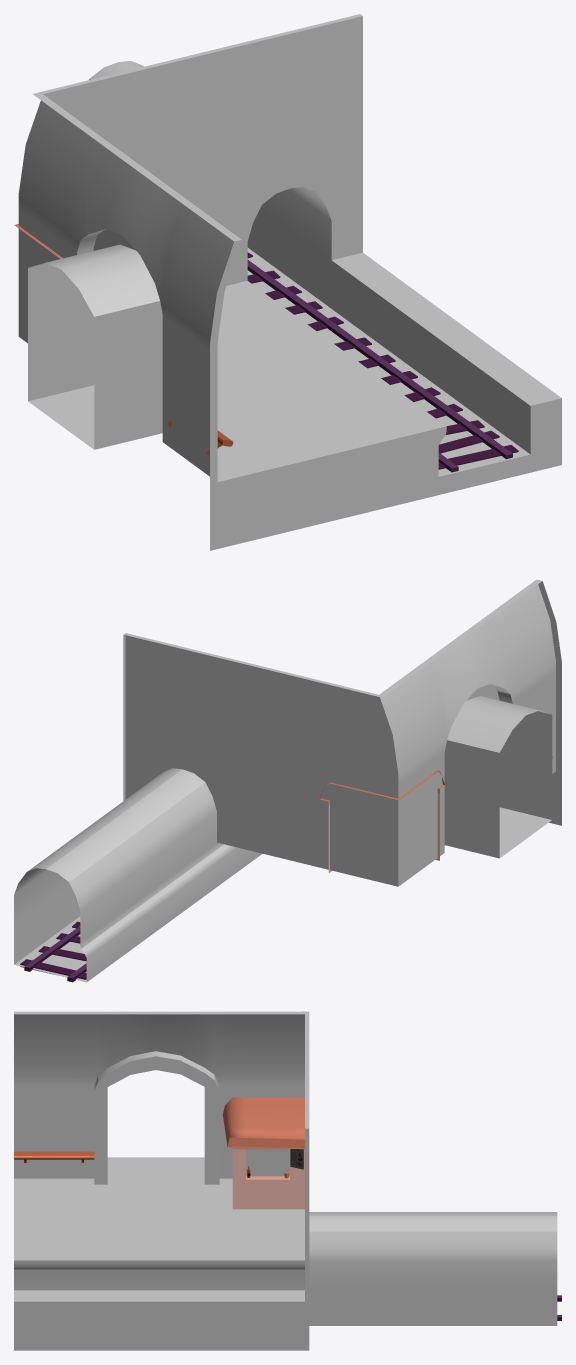
Rendered from station 4.fbx.
3 renders of one model, top to bottom at view 1: azimuth 30°, elevation 25°; view 2: azimuth 150°, elevation 25°; view 3: azimuth 270°, elevation 25°, orthographic. The views are drawn at different scales.
Parts seen in each view (by area): view 1: env_4, track_6; view 2: env_4, track_6, pCube75; view 3: env_4, pCube75, pCube77.
Part boxes in pixels (<box>): env_4: <box>18,14,561,550</box>; track_6: <box>247,252,518,472</box>; env_4: <box>14,579,561,982</box>; track_6: <box>20,921,86,982</box>; pCube75: <box>319,770,444,872</box>; env_4: <box>14,1011,557,1350</box>; pCube75: <box>222,1097,304,1209</box>; pCube77: <box>14,1151,94,1162</box>.
Size of the model in its own units: 23.18 by 16.64 by 37.24.
